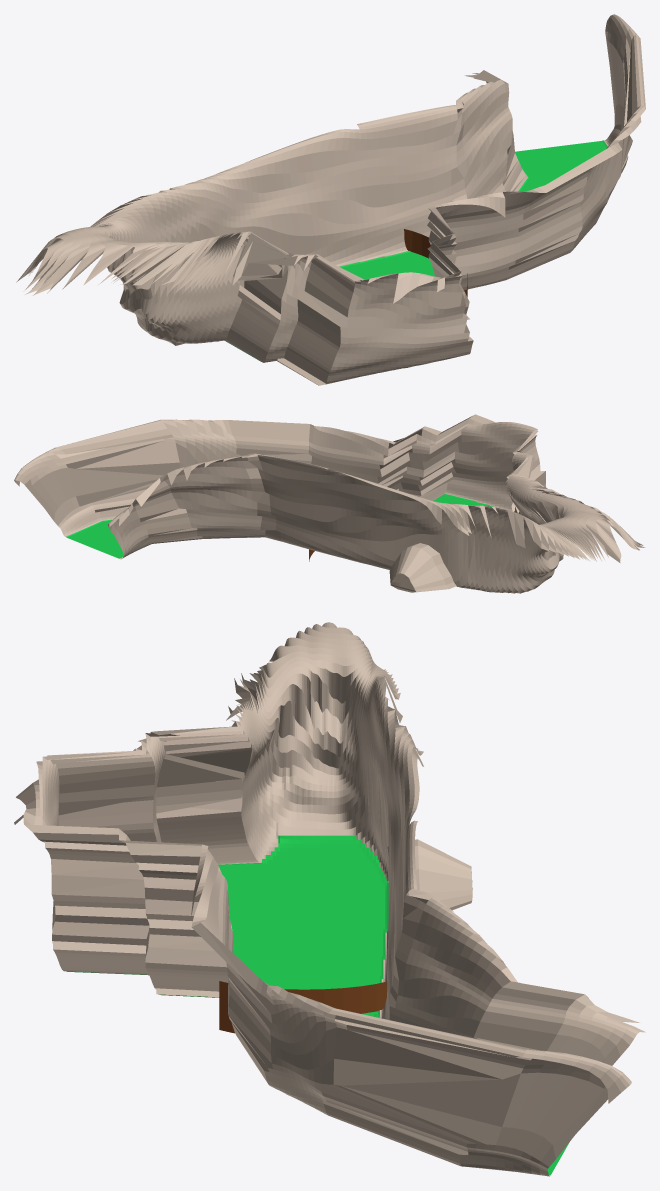
The model's file is ForestTerrain.fbx.
3 views of the same model, one above another, from view 1: azimuth 30°, elevation 25°; view 2: azimuth 150°, elevation 25°; view 3: azimuth 270°, elevation 25° (orthographic). The views are drawn at different scales.
Visible parts, largest first — view 1: Cube; view 2: Cube; view 3: Cube.
Part boxes in pixels (x1,y1,x2,y2): Cube: (16, 14, 645, 385); Cube: (14, 414, 645, 593); Cube: (14, 622, 645, 1176).
Bounding box in the file's own units: 2353 × 448 × 1374.
